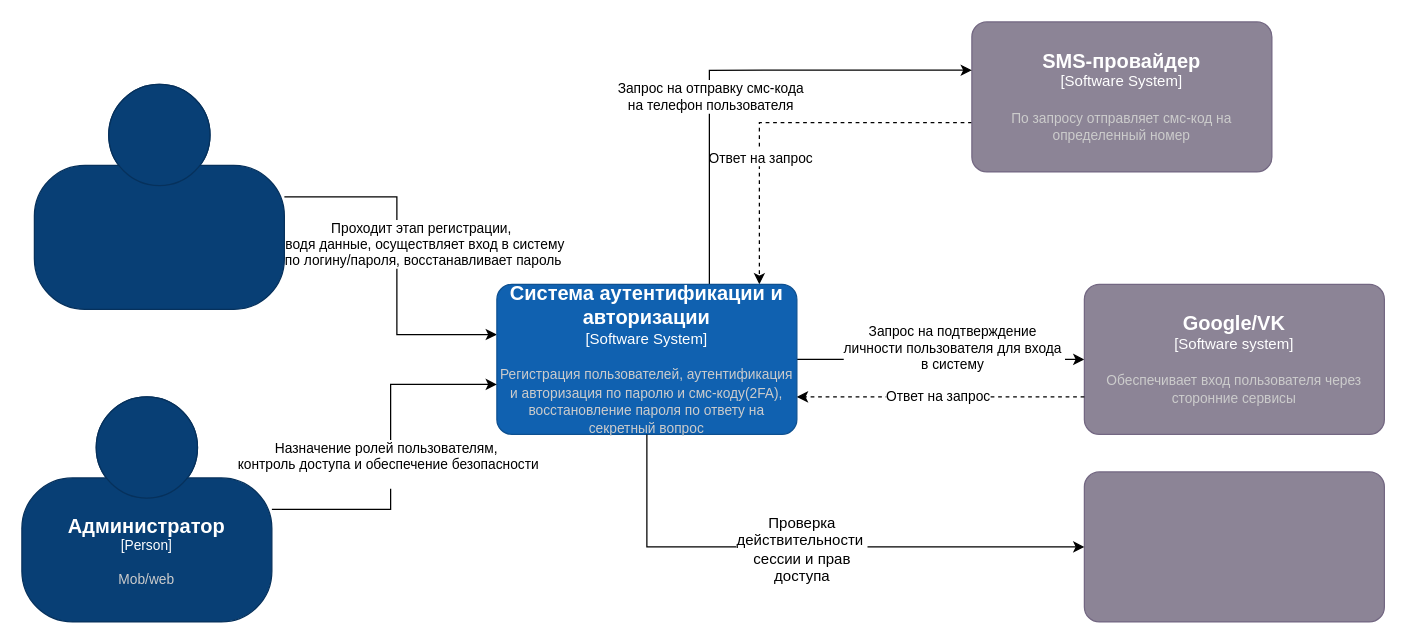
Image size: 1406x644. Some labels were removed from this diagram. Each missing label, with the centre of its shape:
"Защищенные бэкенд-сервисы [Software System]" belongs at (x=1233, y=546).
"Пользователь [Person] Mob/web" belongs at (x=158, y=196).
